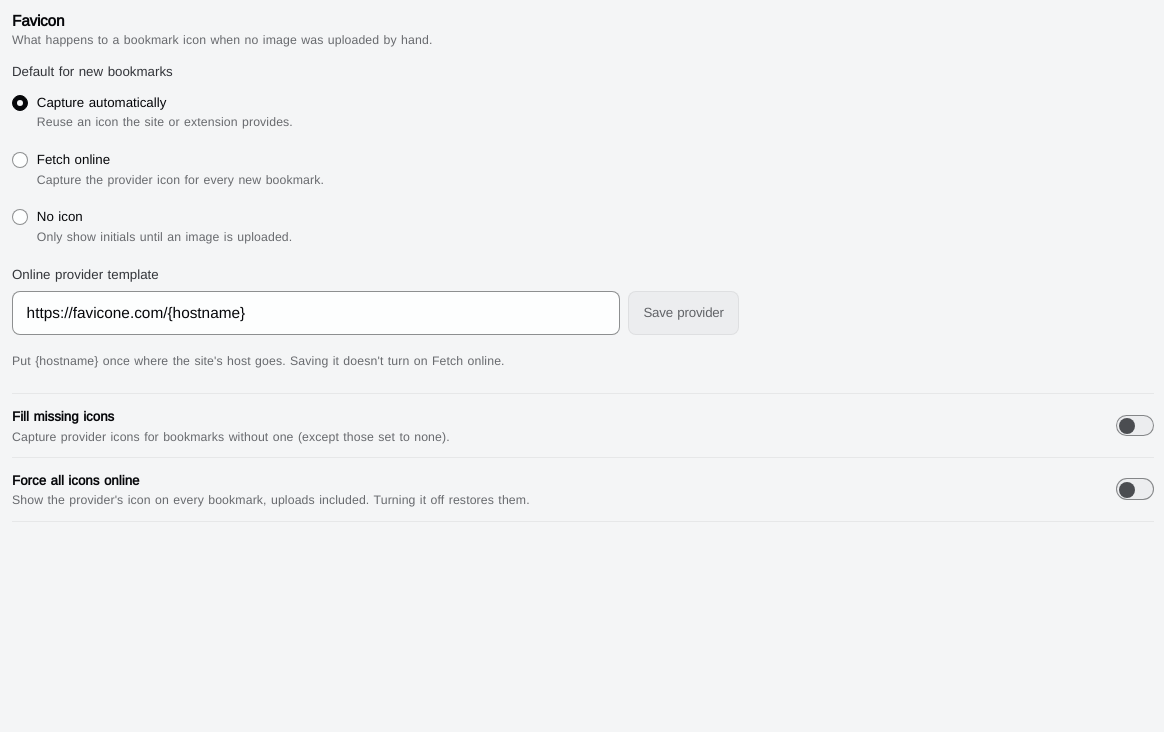
Test case: Settings FaviconSection › a failed save renders the notice as a danger-styled alert, not quiet meta text
Click the radio button labelled "No icon Only show initials until an image is uploaded.": (20, 217) x1=12 y1=209 x2=28 y2=225
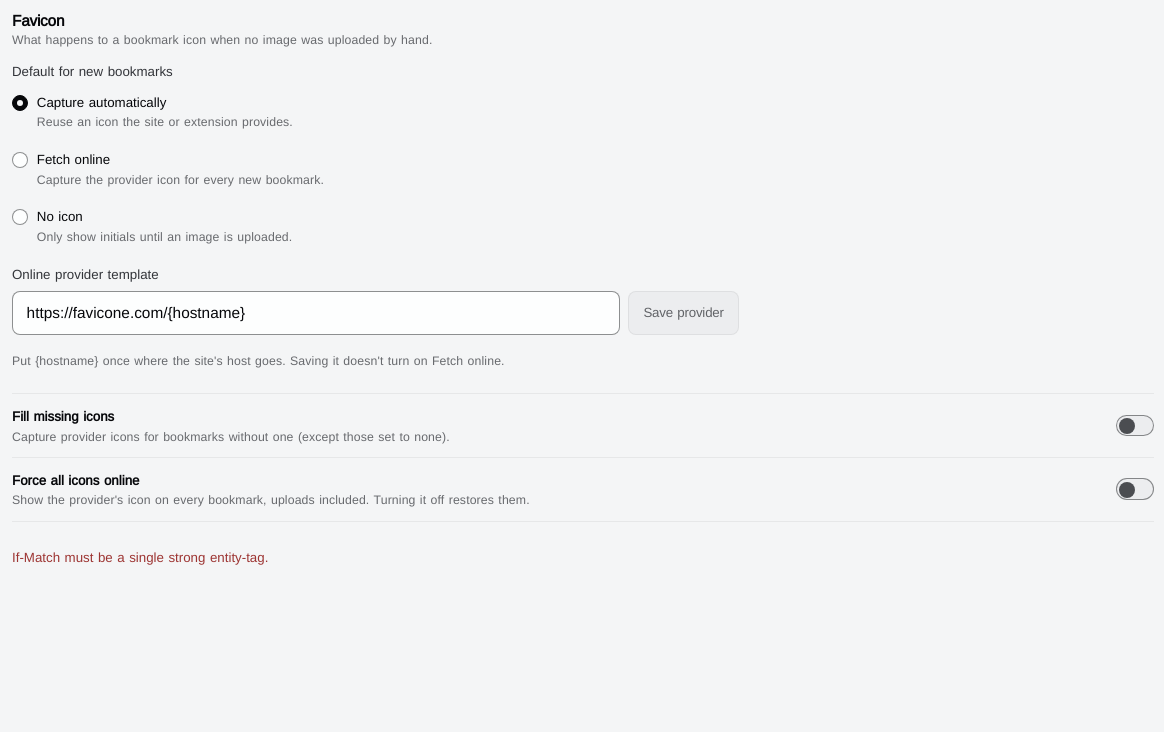
expect the message with test id "favicon-policy-notice" reads "If-Match must be a single strong entity-tag.": met, box x1=12 y1=548 x2=268 y2=564
